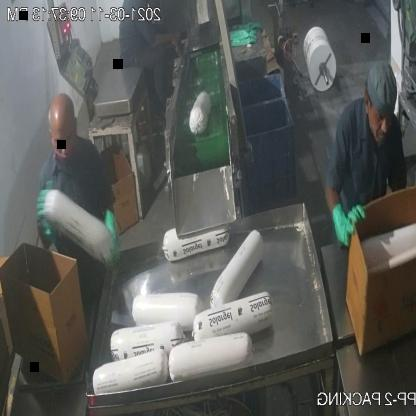glove: (324, 193, 369, 257)
no_glove: (150, 26, 184, 58)
